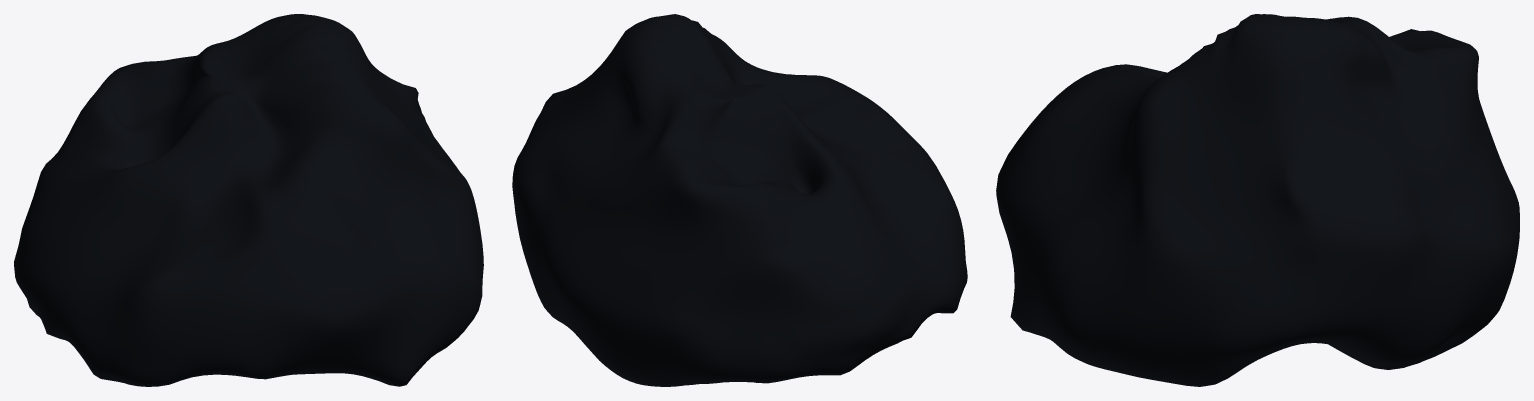
File: stone1.glb
3 views of the same model, side by side, from view 1: azimuth 30°, elevation 25°; view 2: azimuth 150°, elevation 25°; view 3: azimuth 270°, elevation 25° (orthographic). The views are drawn at different scales.
Parts seen in each view (by area): view 1: node_id4; view 2: node_id4; view 3: node_id4.
Boxes of the visible parts, left/top/right/bottom form: node_id4: left=14, top=14, right=483, bottom=386; node_id4: left=512, top=14, right=967, bottom=386; node_id4: left=996, top=14, right=1519, bottom=386.
Bounding box in the file's own units: 0.512 × 0.3796 × 0.4975.
Materials: 1 (1 with a texture image).
